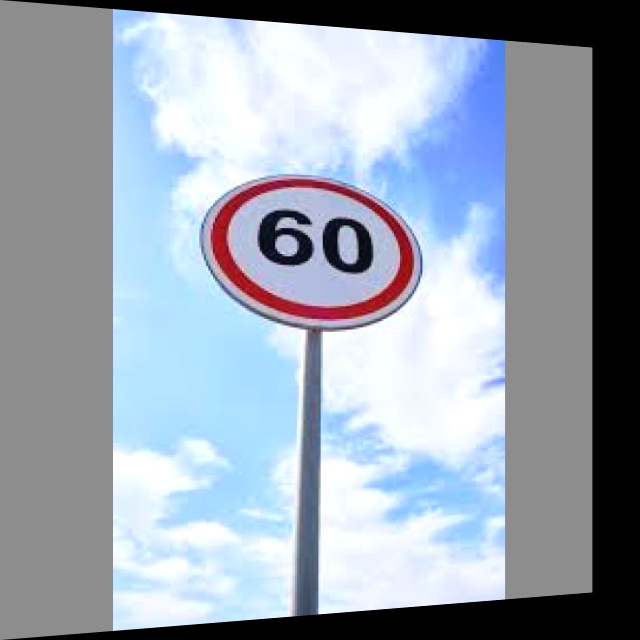Speed_Limit_60: (204, 165, 431, 330)
